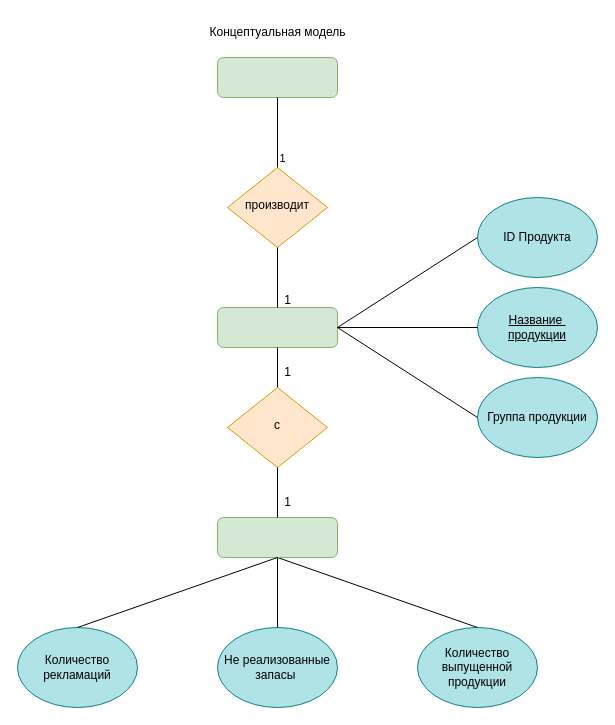
Image size: 615x725. Some labels were removed from this diagram. The centre of each missing label's shape, as x and y in pixels:
Компания: point 277,77
продукцию: point 277,327
Экономические показатели: point 277,537
